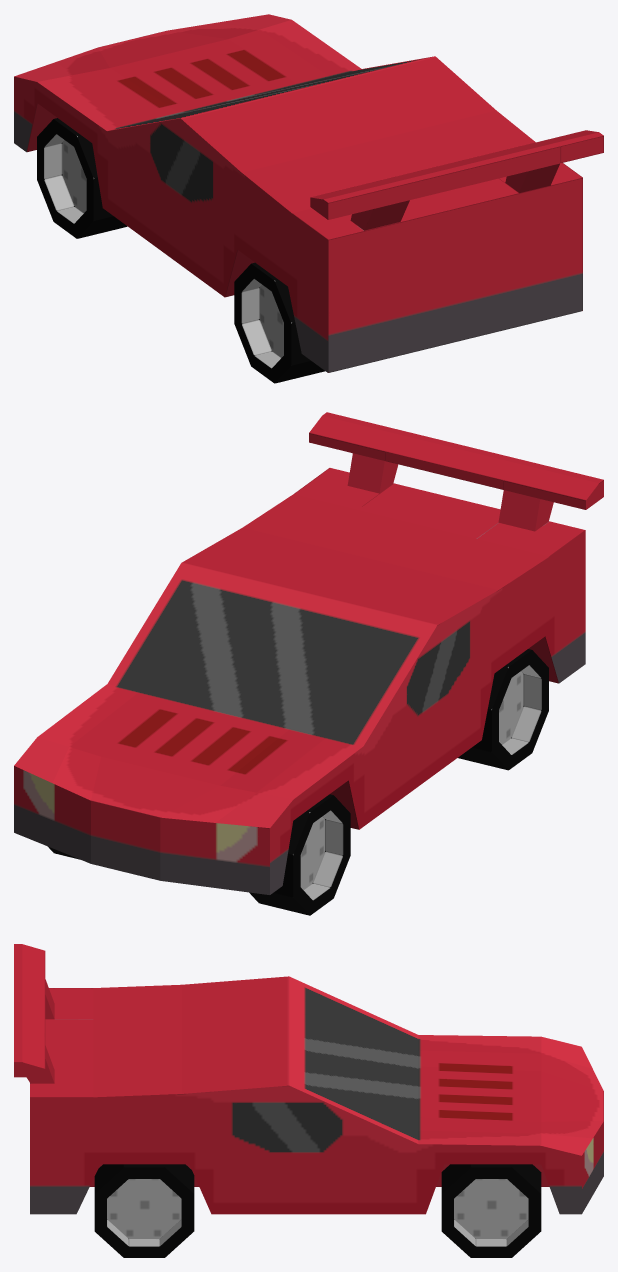
Rendered from CarBasic.fbx.
The picture shows the model from 3 angles, top to bottom: view 1: azimuth 30°, elevation 25°; view 2: azimuth 150°, elevation 25°; view 3: azimuth 270°, elevation 25°; orthographic projection. The views are drawn at different scales.
Parts seen in each view (by area): view 1: cuboid, cylinder_2, cylinder_3; view 2: cuboid, cylinder_3, cylinder_2; view 3: cuboid, cylinder, cylinder_1.
Boxes of the visible parts, <box> form: cuboid: <box>14,14,603,372</box>; cylinder_2: <box>234,262,324,383</box>; cylinder_3: <box>37,118,127,238</box>; cuboid: <box>14,412,603,894</box>; cylinder_3: <box>249,794,350,915</box>; cylinder_2: <box>458,649,548,770</box>; cuboid: <box>14,944,603,1214</box>; cylinder: <box>441,1164,541,1257</box>; cylinder_1: <box>94,1164,194,1257</box>.
Size of the model in its own units: 94.69 by 75 by 200.
1 material, 1 textured.
